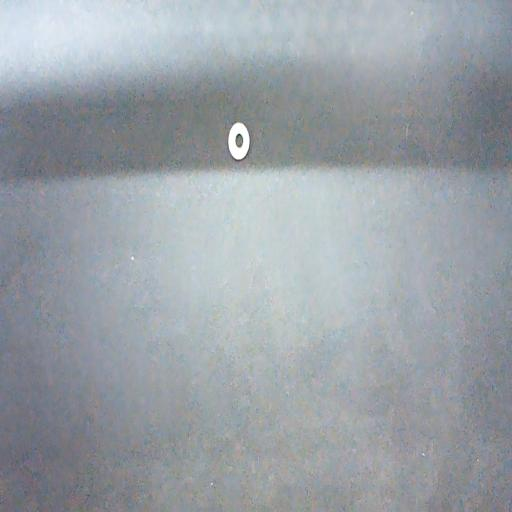washer: (228, 121, 250, 161)
